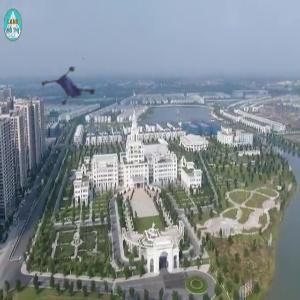drone: (48, 56, 108, 116)
